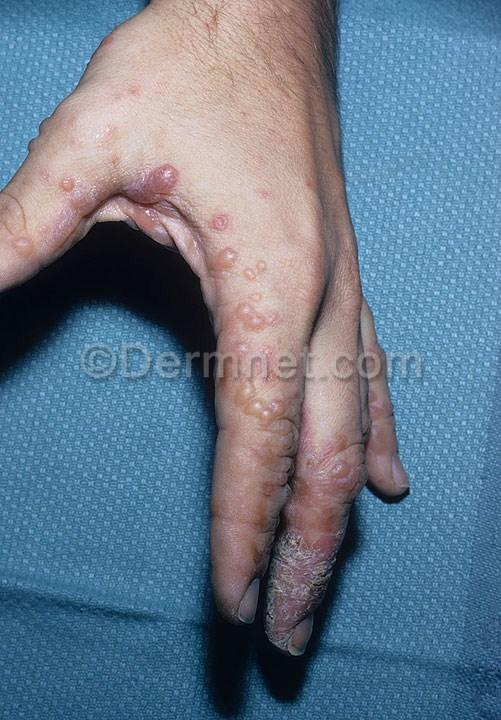Eczema: (125, 198, 174, 245), (139, 157, 184, 205), (233, 302, 279, 330), (275, 532, 306, 566), (261, 398, 293, 426), (47, 214, 77, 240), (66, 192, 98, 215), (154, 200, 187, 222), (214, 247, 241, 273), (368, 427, 389, 453), (11, 234, 35, 255), (311, 575, 329, 602), (255, 578, 285, 594), (187, 235, 208, 257), (320, 507, 336, 533), (239, 377, 253, 406), (263, 600, 276, 631), (210, 213, 231, 232), (37, 115, 56, 136), (289, 580, 302, 610), (59, 176, 78, 196), (32, 221, 50, 242), (264, 559, 283, 578), (27, 134, 42, 158), (245, 396, 263, 416), (334, 460, 351, 480), (238, 265, 259, 281), (368, 402, 384, 423), (150, 136, 172, 151), (295, 577, 311, 597), (265, 125, 285, 140), (334, 434, 349, 454), (313, 538, 327, 559), (313, 562, 329, 580), (109, 154, 124, 173), (97, 35, 116, 49), (251, 155, 268, 169), (303, 177, 317, 194), (254, 187, 272, 200), (330, 545, 337, 578), (305, 456, 317, 475), (126, 83, 142, 97), (101, 124, 117, 138), (38, 168, 55, 181), (261, 481, 274, 498), (246, 291, 266, 302), (284, 484, 294, 505), (252, 261, 269, 273), (334, 527, 348, 540), (66, 134, 81, 146), (278, 471, 289, 486), (68, 114, 80, 127), (109, 89, 123, 100), (239, 109, 249, 119)
